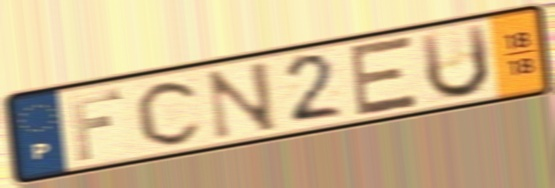2: (283, 50, 346, 131)
C: (133, 77, 206, 149)
E: (348, 33, 422, 120)
F: (66, 86, 125, 164)
N: (203, 58, 281, 143)
U: (416, 20, 494, 103)
